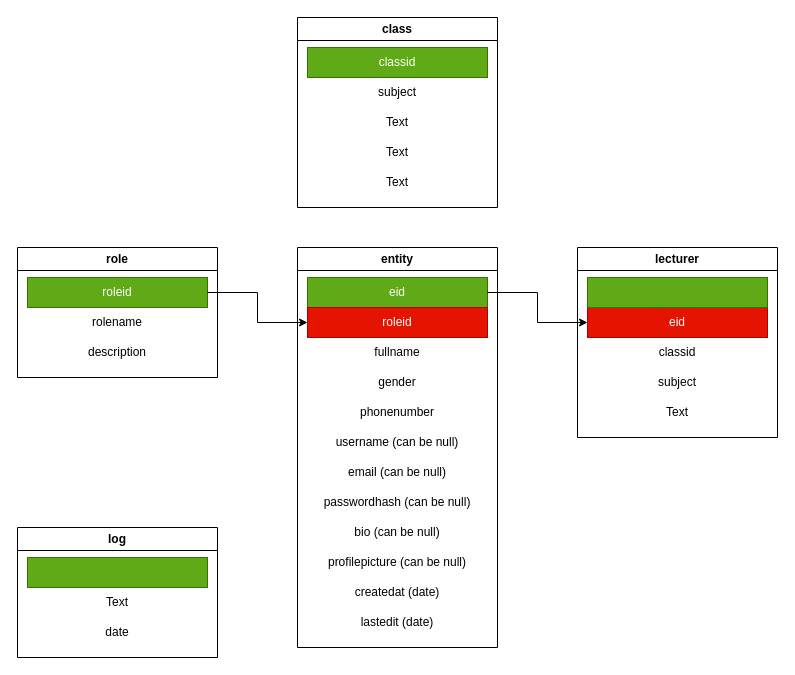
The diagram is 795 pixels wide and 675 high, and some of its shapes have lost their labels. Here are the shapes that lost their labels. From the top down, the centre of each, then its label:
At point 677,292: "lid".
At point 117,572: "logid".
